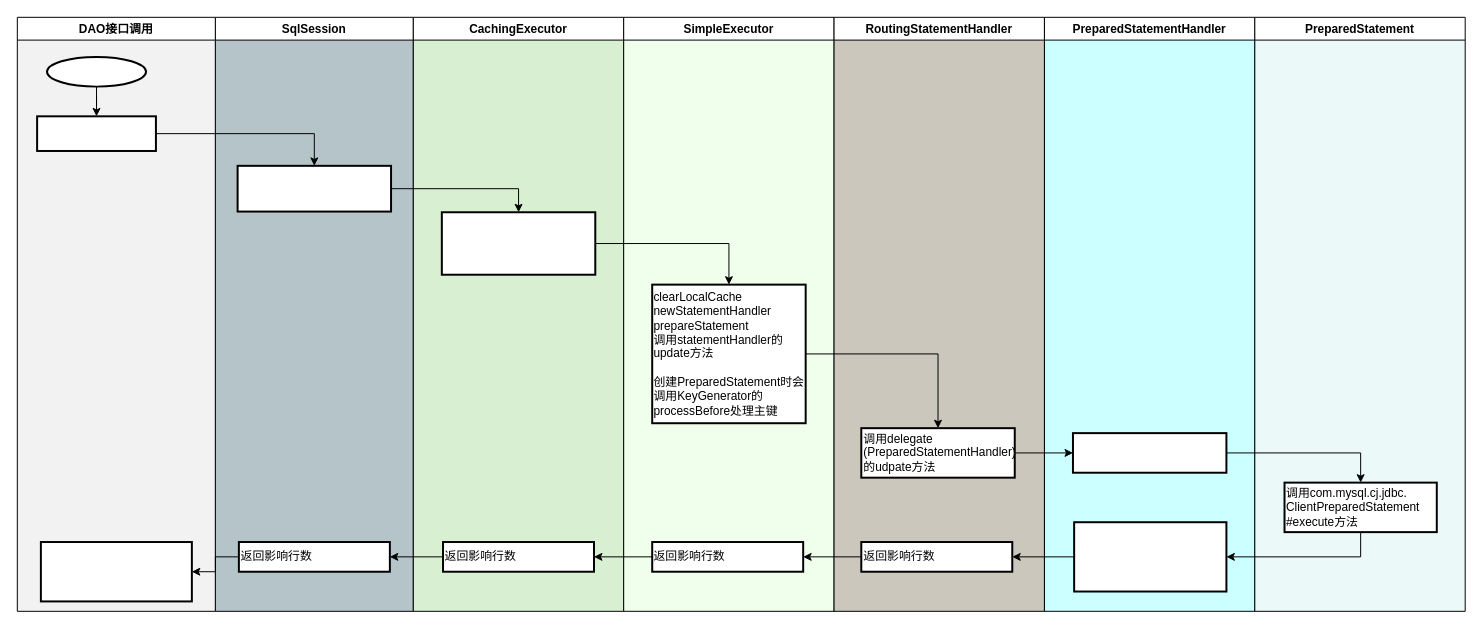
This 1483x629 diagram has some shape labels left out. Each missing label, with the centre of its shape:
"flushCacheIfRequired 调用delegate(SimpleExecutor)的update方法" goes at (x=518, y=243).
"MapperMethod的rowCountResult方法根据Mapper的返回值类型做对应转换" goes at (x=115, y=571).
"一系列的过程执行到SqlSession的update" goes at (x=96, y=133).
"开始" goes at (x=96, y=71).
"标记dirty为true 获取MappedStatement 调用Executor的update方法" goes at (x=314, y=188).
"根据PreparedStatement的getUpdateCount获取影响行数，然后调用KeyGenerator的processAfter" goes at (x=1150, y=556).
"调用PreparedStatement的execute方法" goes at (x=1149, y=452).
